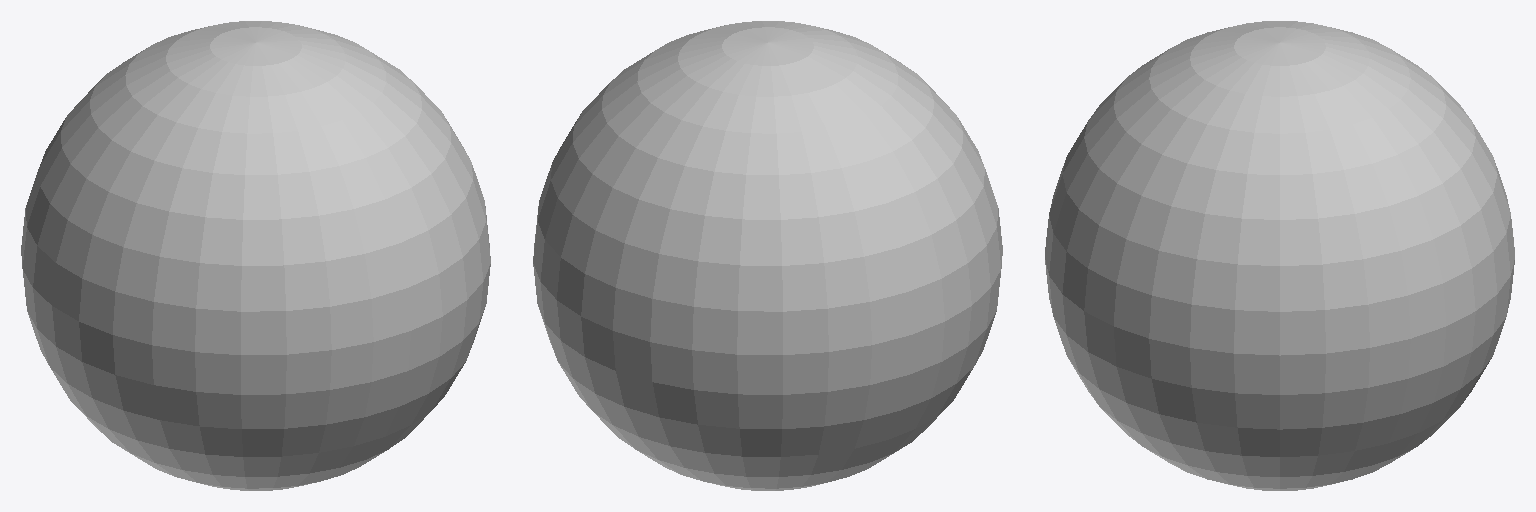
Rendered from catsphere.obj.
The picture shows the model from 3 angles: view 1: azimuth 30°, elevation 25°; view 2: azimuth 150°, elevation 25°; view 3: azimuth 270°, elevation 25°; orthographic projection.
Parts seen in each view (by area): view 1: Sphere; view 2: Sphere; view 3: Sphere.
Part boxes in pixels (x1,y1,x2,y2): Sphere: (21,21,490,490); Sphere: (533,21,1002,490); Sphere: (1045,21,1514,490).
Size of the model in its own units: 2 by 2 by 2.